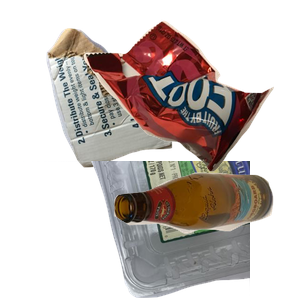cardboard: (44, 26, 209, 186)
glass: (111, 170, 300, 300)
plastic: (23, 161, 263, 300)
trash: (81, 18, 300, 182)
